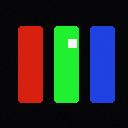1 square: (68, 39, 76, 47)
